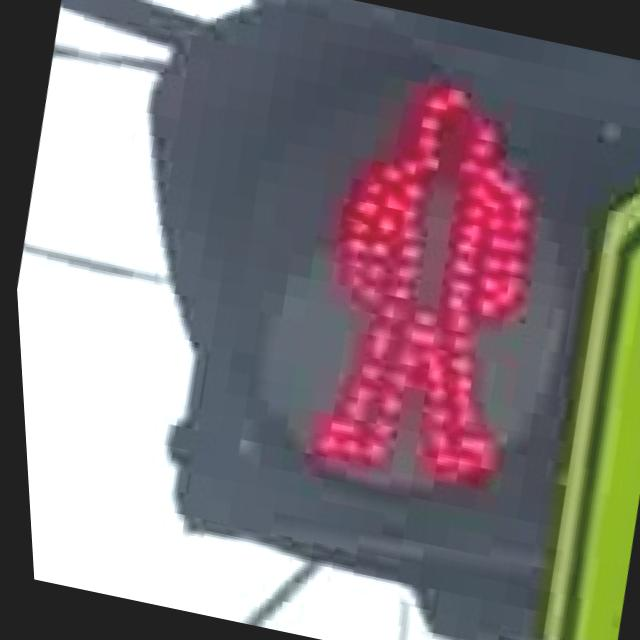red_light: (247, 35, 598, 502)
